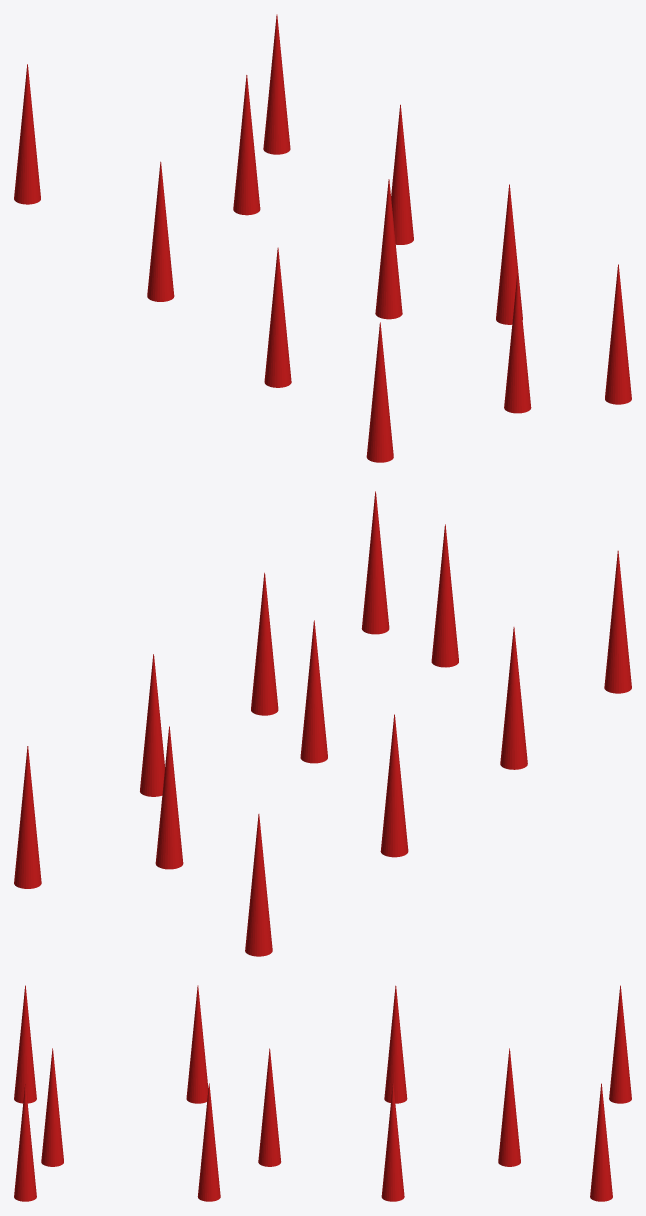
The model's file is ShipGO .fbx.
The picture shows the model from 3 angles, top to bottom: view 1: azimuth 30°, elevation 25°; view 2: azimuth 150°, elevation 25°; view 3: azimuth 270°, elevation 25°; orthographic projection. The views are drawn at different scales.
Parts seen in each view (by area): view 1: ship.009, ship.008, ship.003, ship.002, ship.010, ship.007, ship.004, ship.001, ship, ship.006, ship.005; view 2: ship.004, ship.002, ship.009, ship.005, ship.003, ship.008, ship.001, ship, ship.010, ship.007, ship.006; view 3: ship.007, ship.006, ship.004, ship, ship.005, ship.009, ship.008, ship.010, ship.002, ship.003, ship.001.
Boxes of the visible parts, x1,y1,x2,y2 form: ship.009: (375, 179, 402, 319); ship.008: (233, 75, 260, 215); ship.003: (366, 322, 393, 462); ship.002: (264, 247, 291, 387); ship.010: (504, 273, 531, 413); ship.007: (263, 14, 290, 154); ship.004: (605, 264, 631, 404); ship.001: (147, 161, 174, 301); ship: (14, 64, 40, 204); ship.006: (391, 104, 413, 244); ship.005: (496, 184, 522, 324); ship.004: (361, 491, 389, 634); ship.002: (500, 627, 527, 769); ship.009: (300, 620, 327, 763); ship.005: (251, 572, 278, 715); ship.003: (604, 550, 631, 693); ship.008: (155, 726, 183, 869); ship.001: (380, 714, 408, 857); ship: (245, 814, 272, 956); ship.010: (431, 524, 458, 667); ship.007: (14, 746, 41, 888); ship.006: (140, 654, 164, 796); ship.007: (590, 1083, 612, 1201); ship.006: (381, 1083, 404, 1201); ship.004: (14, 1083, 36, 1201); ship: (609, 985, 631, 1103); ship.005: (197, 1083, 220, 1201); ship.009: (258, 1048, 281, 1166); ship.008: (498, 1048, 520, 1166); ship.010: (41, 1048, 63, 1166); ship.002: (186, 985, 208, 1103); ship.003: (14, 985, 36, 1103); ship.001: (384, 985, 407, 1103).
Size of the model in its own units: 348 by 171 by 843.
